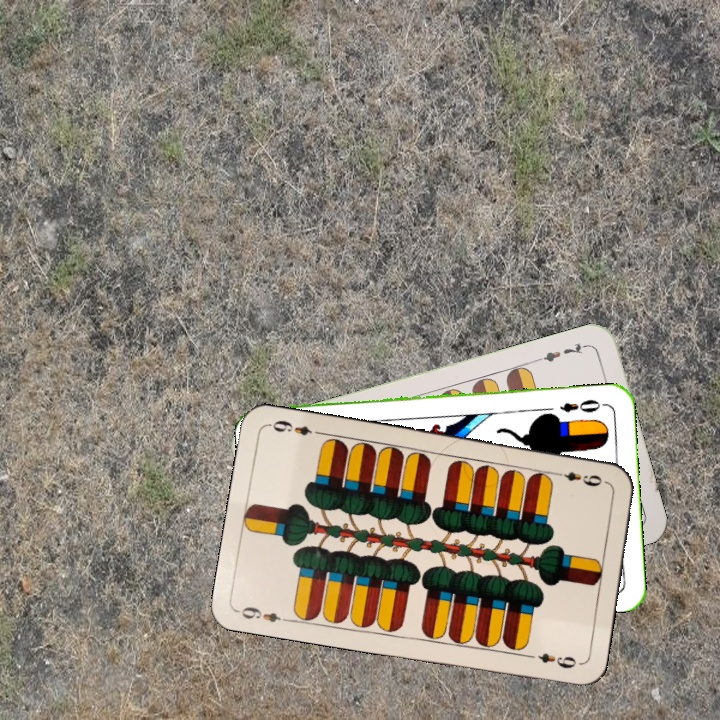E7: (532, 339, 590, 365)
E9: (235, 602, 293, 625), (551, 467, 610, 489)
EO: (556, 395, 608, 415)
